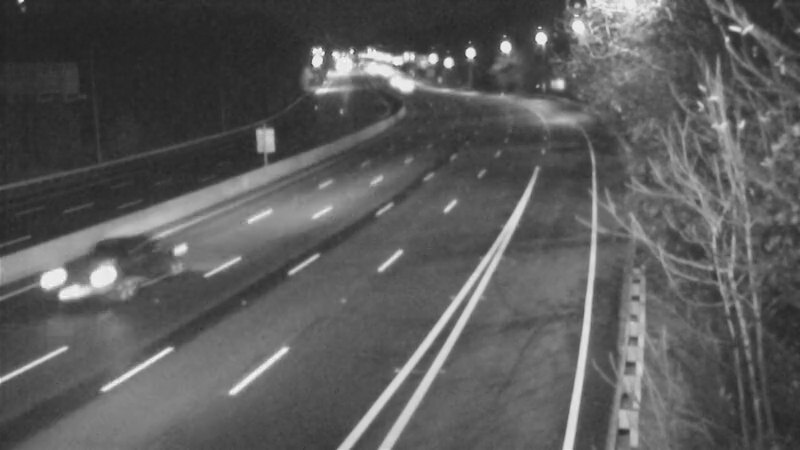vehicle: (47, 234, 127, 314), (378, 60, 428, 110)
